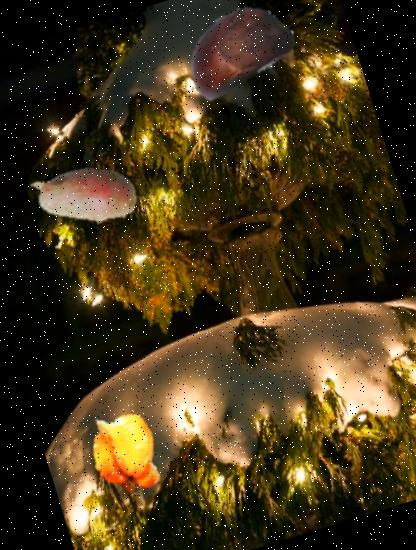Carambula: (69, 396, 181, 508)
Chestnut: (165, 0, 309, 119)
Potato: (11, 125, 153, 266)
